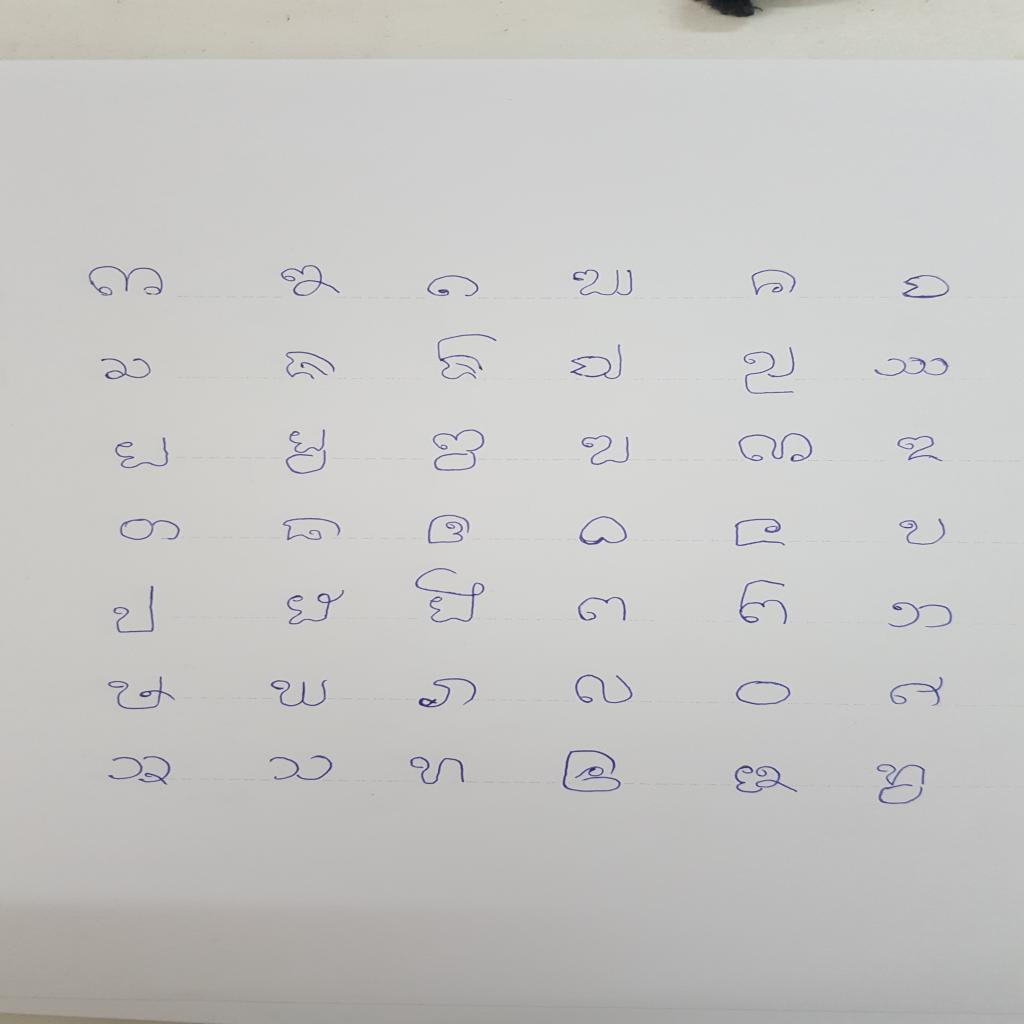LN001: (82, 263, 171, 300)
LN002: (276, 263, 349, 301)
LN003: (422, 273, 487, 301)
LN004: (567, 267, 641, 300)
LN005: (746, 267, 803, 300)
LN006: (896, 273, 957, 303)
LN007: (94, 356, 159, 385)
LN008: (278, 348, 343, 384)
LN013: (110, 435, 176, 472)
LN014: (280, 426, 335, 479)
LN015: (427, 427, 492, 475)
LN016: (578, 433, 638, 470)
LN017: (732, 431, 818, 467)
LN018: (891, 434, 950, 465)
LN019: (116, 515, 187, 544)
LN020: (278, 515, 348, 546)
LN021: (421, 512, 477, 548)
LN023: (727, 515, 794, 551)
LN024: (894, 517, 953, 550)
LN027: (409, 565, 492, 627)
LN028: (571, 593, 634, 626)
LN029: (734, 577, 796, 630)
LN030: (881, 599, 960, 633)
LN031: (102, 674, 182, 715)
LN032: (267, 677, 335, 710)
LN034: (568, 670, 639, 708)
LN035: (730, 675, 797, 709)
LN036: (885, 676, 950, 710)
LN041: (727, 762, 805, 798)
LN042: (869, 760, 933, 809)
